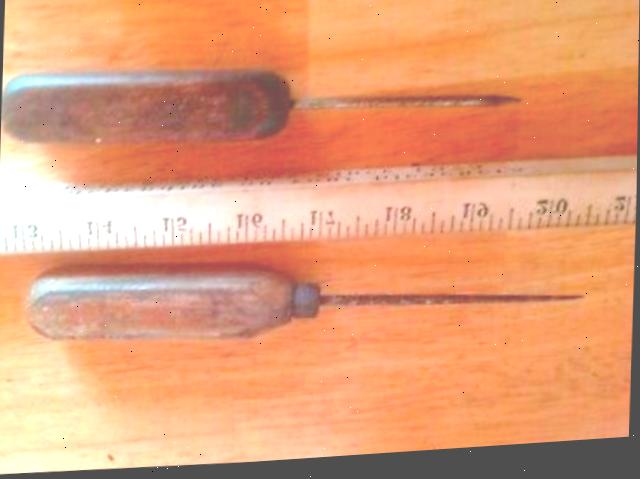ice pick: (25, 244, 584, 359), (0, 50, 524, 162)
